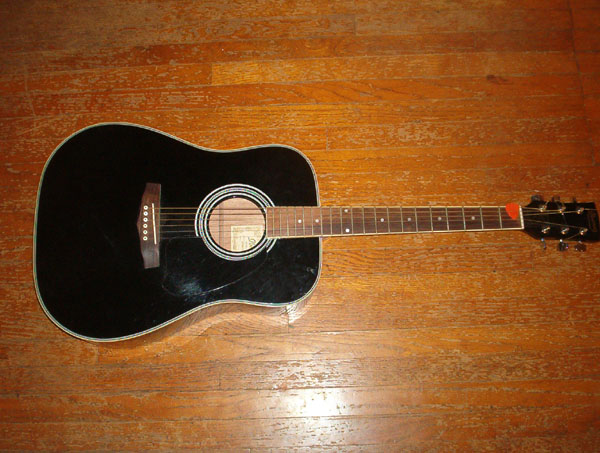guitar: (30, 119, 600, 352)
